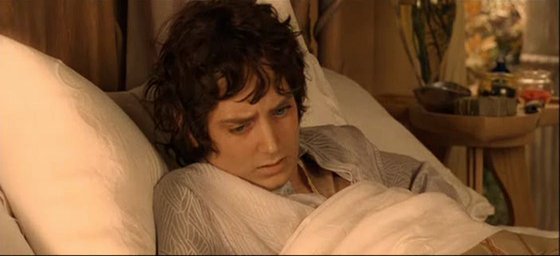face: (210, 81, 300, 191)
mcu: (1, 1, 560, 256)
person: (142, 1, 467, 254)
